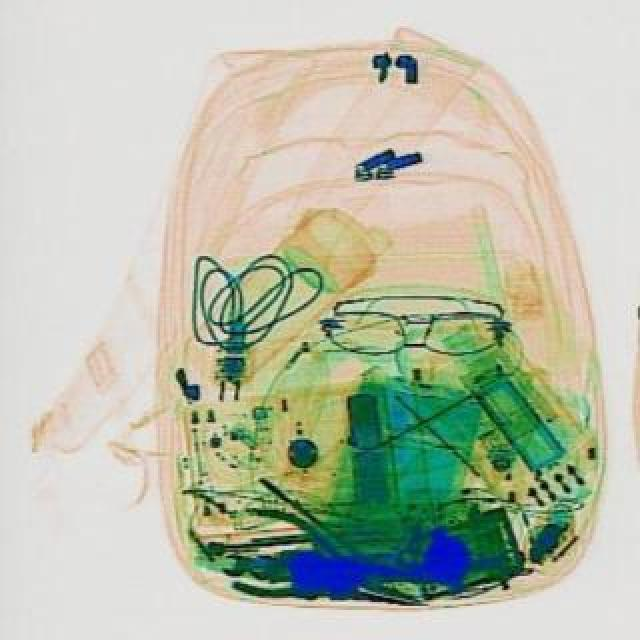scissors: (222, 550, 334, 590)
wrench: (218, 502, 430, 638)
